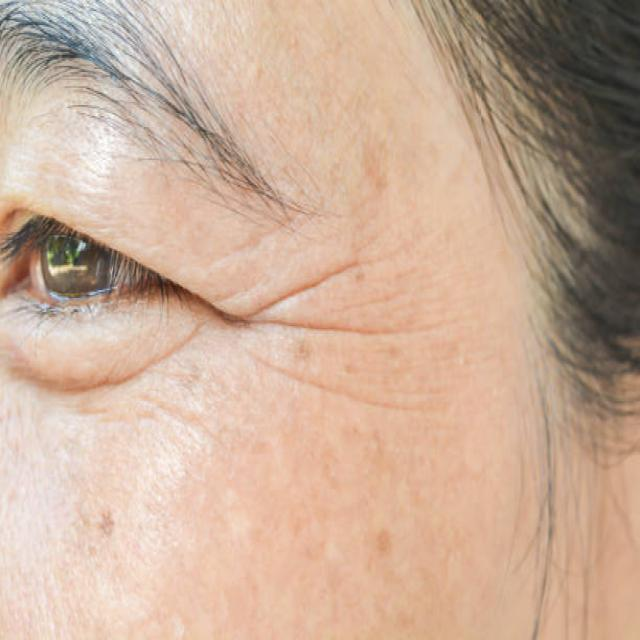Dry-Skin: (239, 215, 506, 607)
